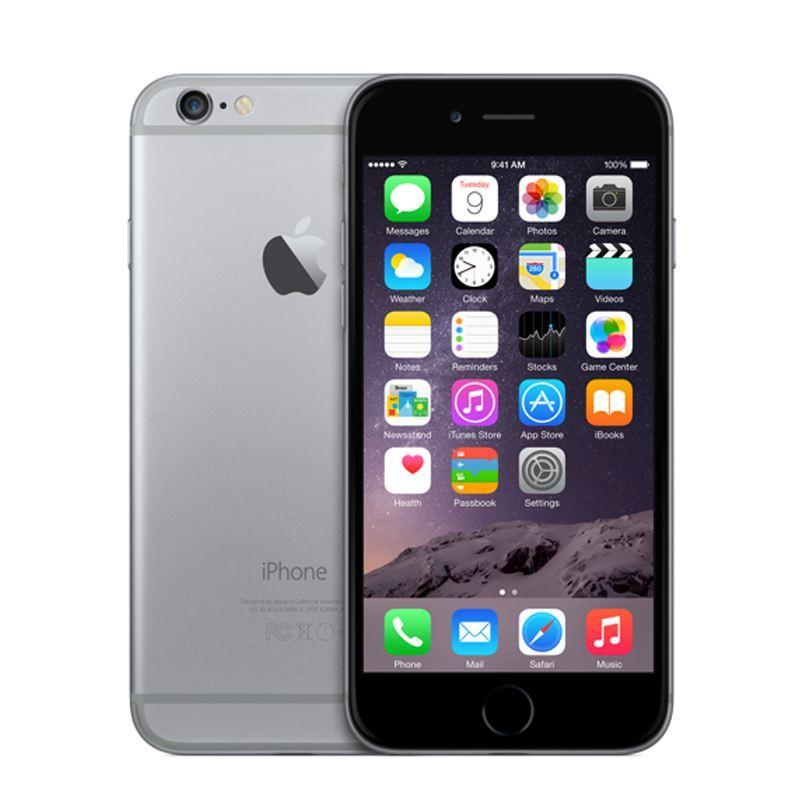phone: (348, 69, 672, 759), (122, 75, 357, 754)
